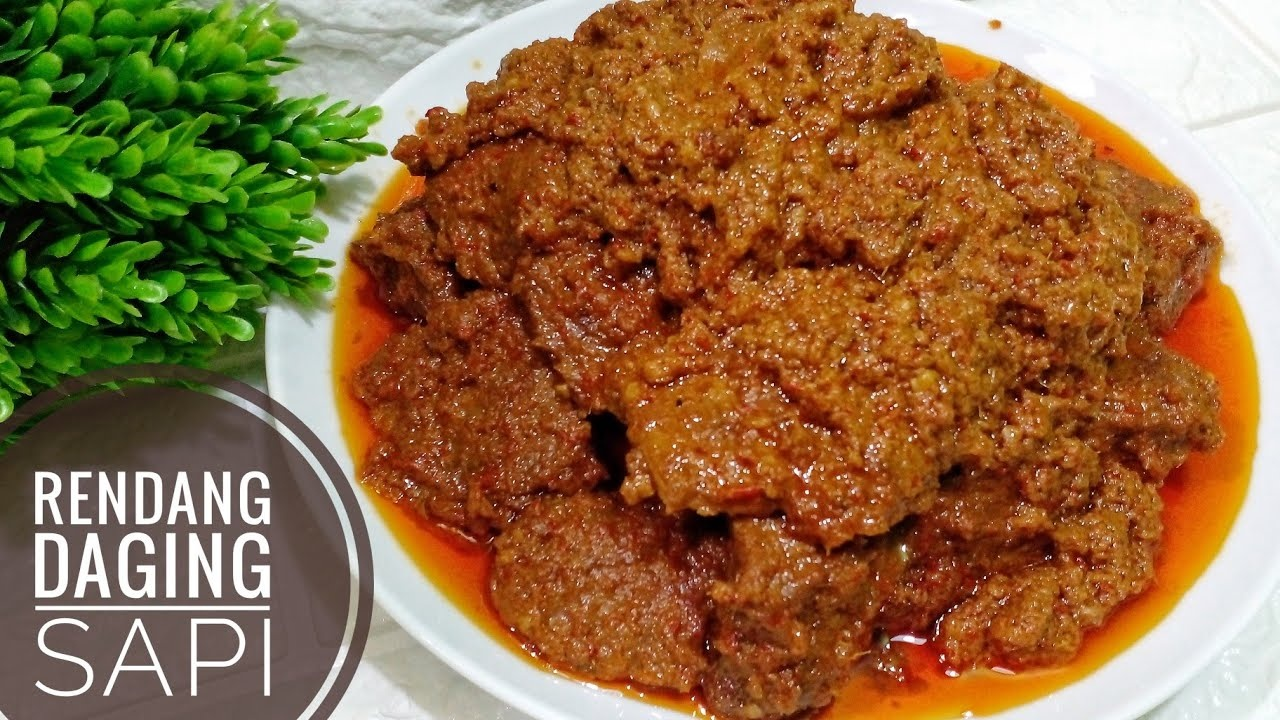rendang: (394, 6, 1209, 688)
